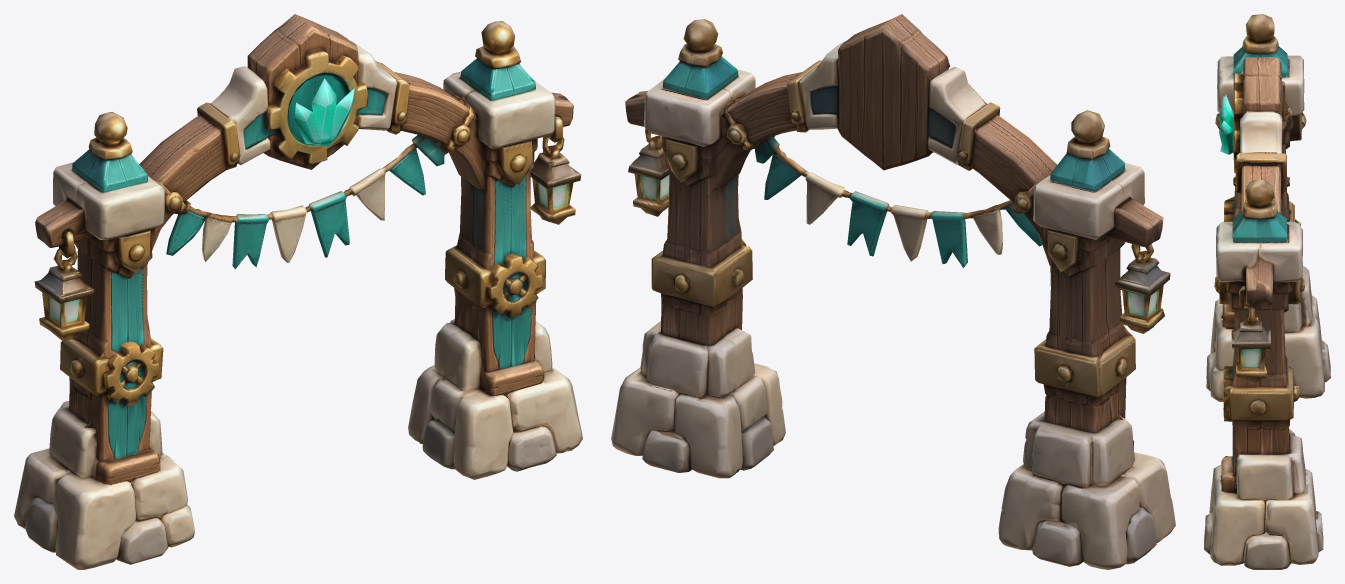
Rendered from X_MarketArch_HD.glb.
The picture shows the model from 3 angles, left to right: view 1: azimuth 30°, elevation 25°; view 2: azimuth 150°, elevation 25°; view 3: azimuth 270°, elevation 25°; orthographic projection. The views are drawn at different scales.
Parts seen in each view (by area): view 1: tripo_node_22b8553a-efe8-4441-bd65-dd7c521480b3; view 2: tripo_node_22b8553a-efe8-4441-bd65-dd7c521480b3; view 3: tripo_node_22b8553a-efe8-4441-bd65-dd7c521480b3.
Boxes of the visible parts, x1,y1,x2,y2 form: tripo_node_22b8553a-efe8-4441-bd65-dd7c521480b3: [14, 14, 582, 569]; tripo_node_22b8553a-efe8-4441-bd65-dd7c521480b3: [611, 14, 1175, 569]; tripo_node_22b8553a-efe8-4441-bd65-dd7c521480b3: [1204, 14, 1330, 569].
Size of the model in its own units: 0.9805 by 0.8463 by 0.2378.
Materials: 1 (1 with a texture image).
